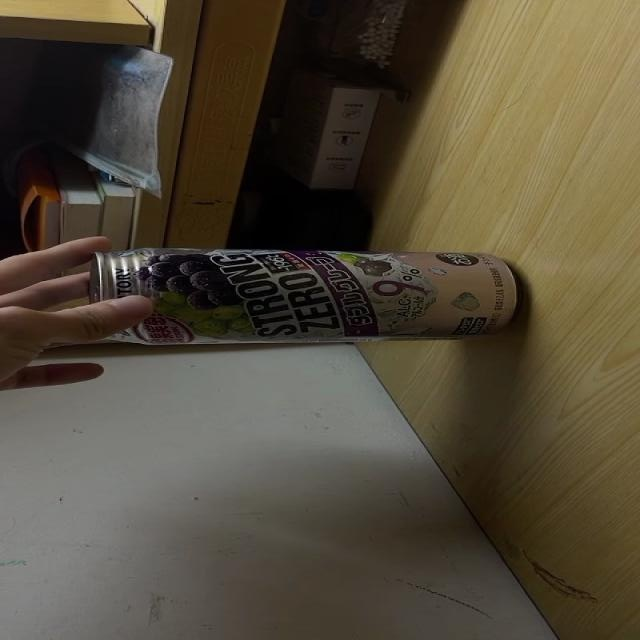Liquor: (86, 248, 520, 346)
